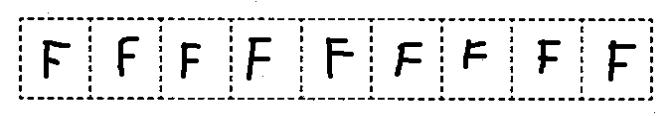F: (320, 32, 360, 84), (602, 34, 641, 86), (240, 32, 276, 81), (112, 31, 144, 83), (38, 34, 72, 82), (174, 36, 207, 84), (530, 34, 566, 77), (390, 38, 425, 78), (461, 38, 490, 74)
